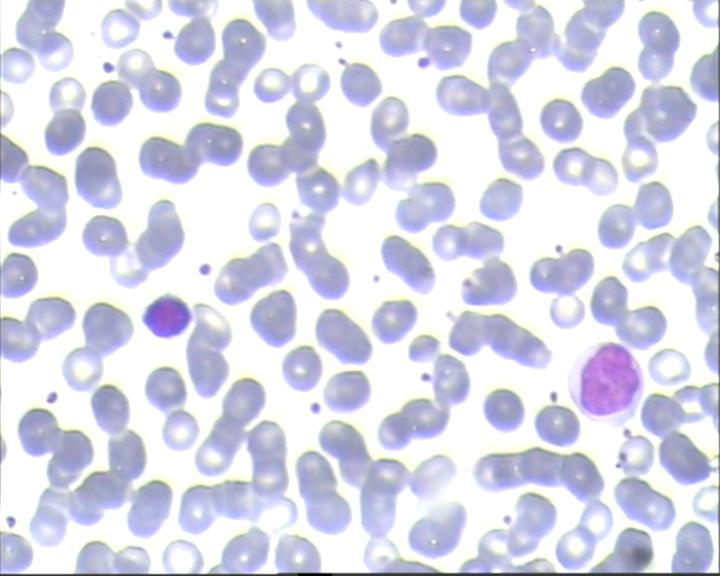lymp: (564, 339, 651, 432)
